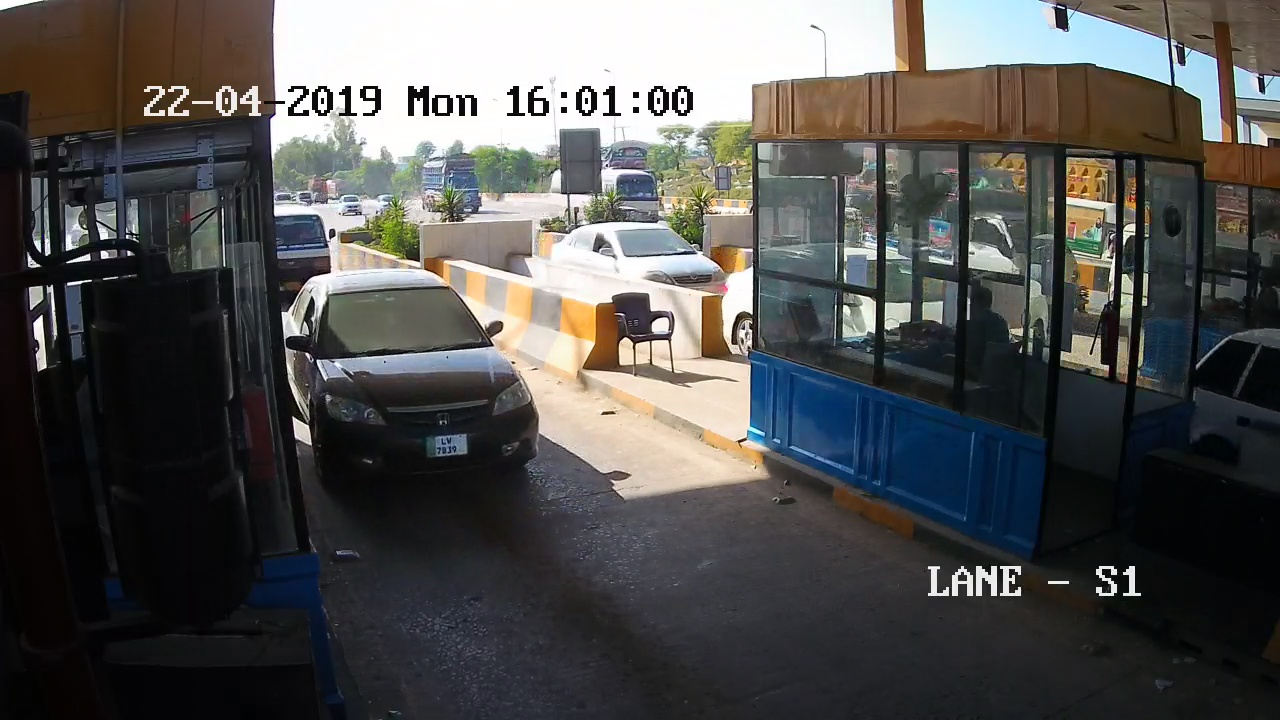Number Plate (Car): (424, 433, 468, 458)
